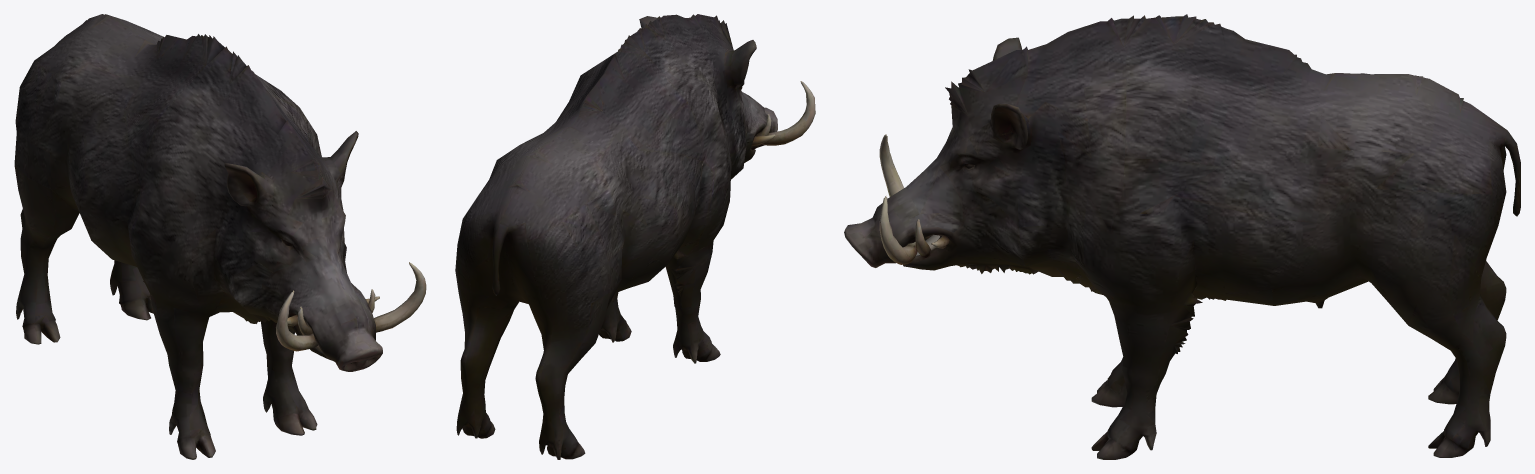
File: ariete_javali.glb
3 views of the same model, side by side, from view 1: azimuth 30°, elevation 25°; view 2: azimuth 150°, elevation 25°; view 3: azimuth 270°, elevation 25° (orthographic). The views are drawn at different scales.
Visible parts, largest first — view 1: Aríete da onda; view 2: Aríete da onda; view 3: Aríete da onda.
Part boxes in pixels (bbox=[...]): Aríete da onda: bbox=[14, 14, 426, 459]; Aríete da onda: bbox=[455, 14, 815, 459]; Aríete da onda: bbox=[844, 14, 1520, 459].
Bounding box in the file's own units: 0.3496 × 0.6699 × 0.998.
1 material, 1 textured.
